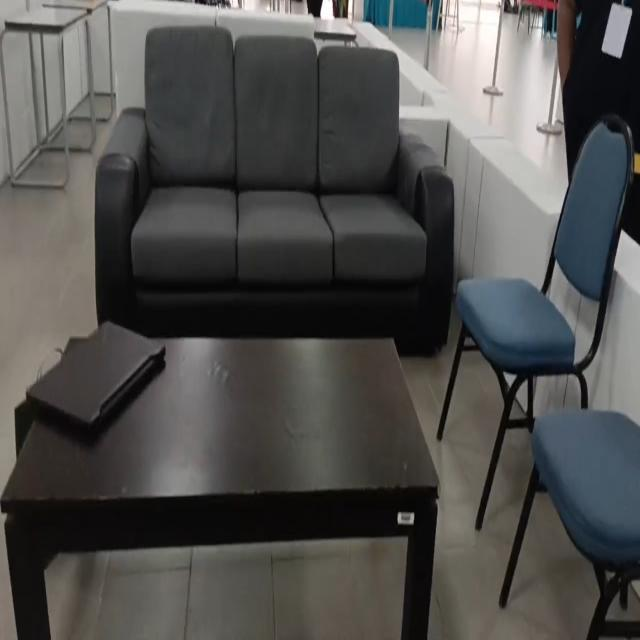sandalye: (438, 113, 634, 481), (132, 27, 236, 286), (318, 45, 426, 283), (235, 36, 332, 285)
